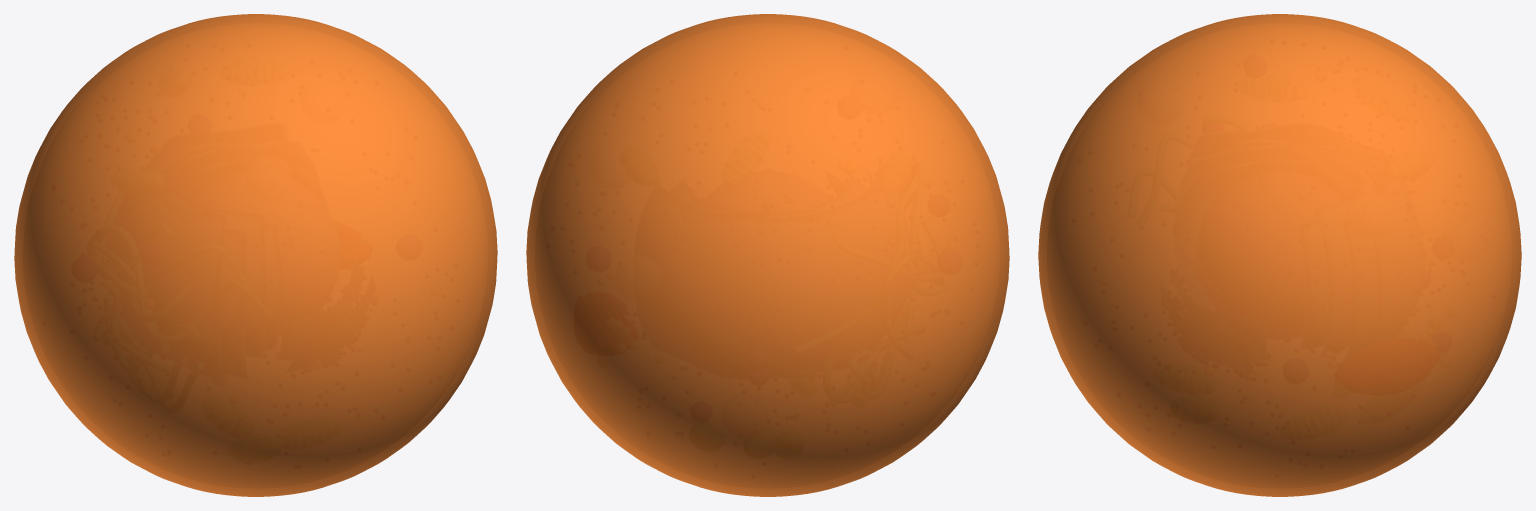
The model's file is animal_cell_full.glb.
3 views of the same model, side by side, from view 1: azimuth 30°, elevation 25°; view 2: azimuth 150°, elevation 25°; view 3: azimuth 270°, elevation 25° (orthographic).
Parts seen in each view (by area): view 1: Cell_Membrane; view 2: Cell_Membrane; view 3: Cell_Membrane.
Boxes of the visible parts, x1=… form: Cell_Membrane: x1=14, y1=14, x2=497, y2=496; Cell_Membrane: x1=526, y1=14, x2=1009, y2=496; Cell_Membrane: x1=1038, y1=14, x2=1521, y2=496.
Bounding box in the file's own units: 4 × 4 × 4.
